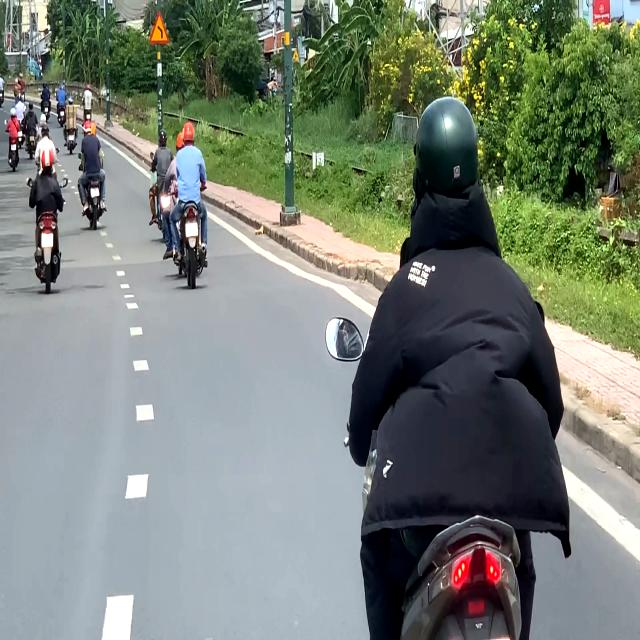W.201a: (150, 12, 170, 43)
